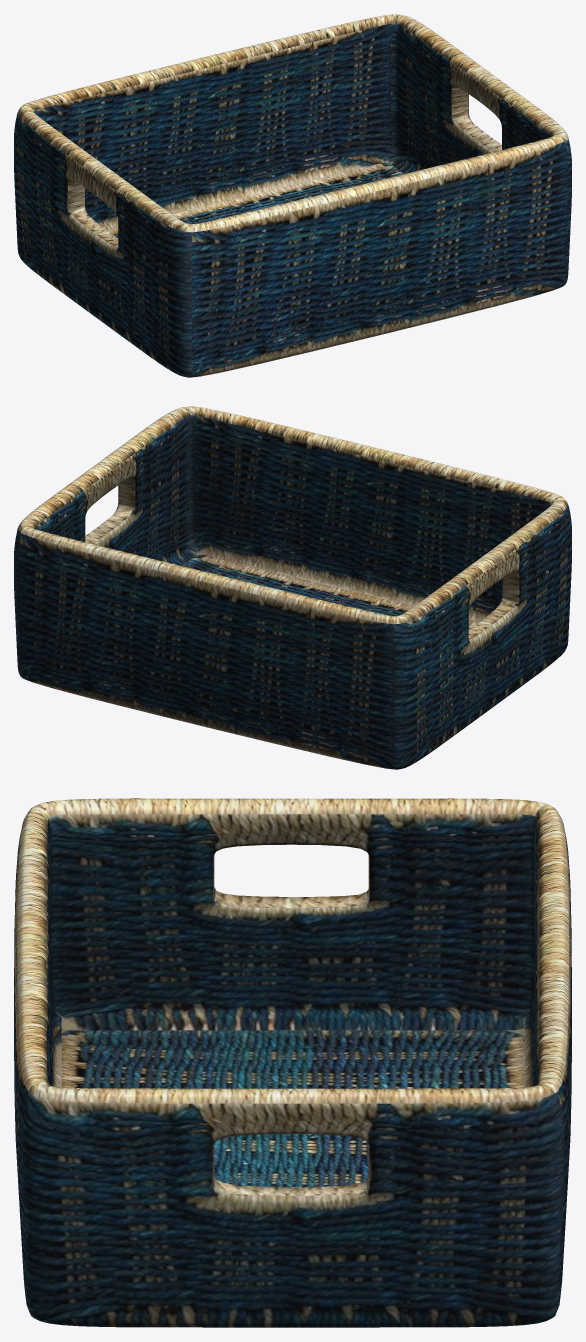
The picture shows the model from 3 angles, top to bottom: view 1: azimuth 30°, elevation 25°; view 2: azimuth 150°, elevation 25°; view 3: azimuth 270°, elevation 25°; orthographic projection. The views are drawn at different scales.
Visible parts, largest first — view 1: pCube2; view 2: pCube2; view 3: pCube2.
Boxes of the visible parts, x1,y1,x2,y2 form: pCube2: (14, 14, 571, 377); pCube2: (14, 406, 571, 769); pCube2: (14, 798, 571, 1327).
Size of the model in its own units: 0.1172 by 0.0445 by 0.0908.
Materials: 1 (1 with a texture image).
